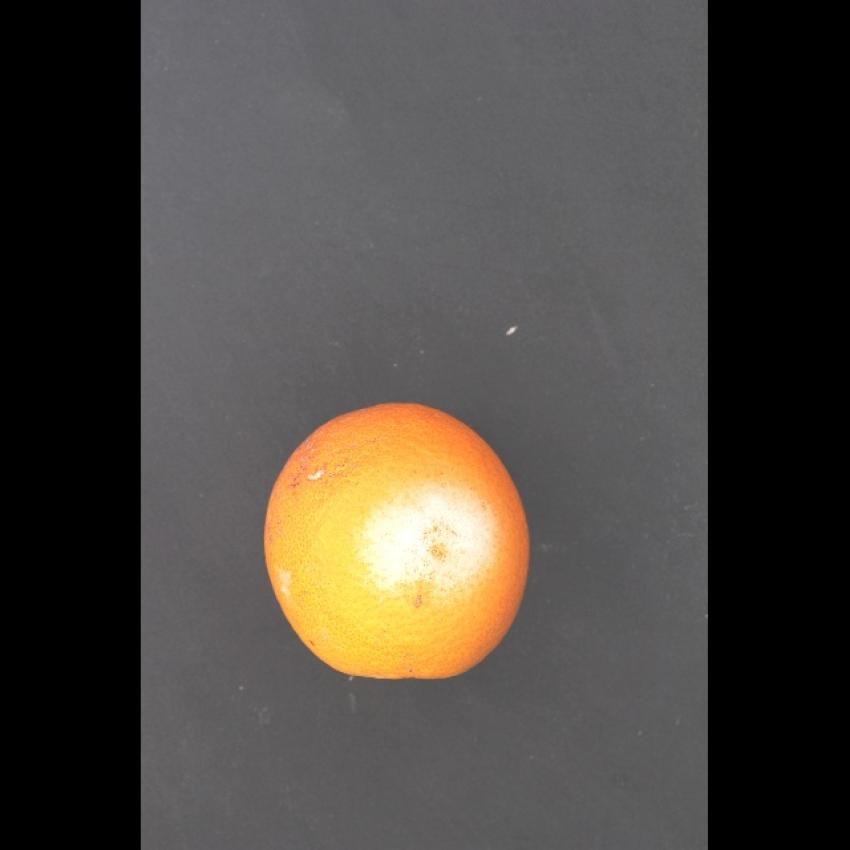Mal estado: (257, 394, 541, 688)
